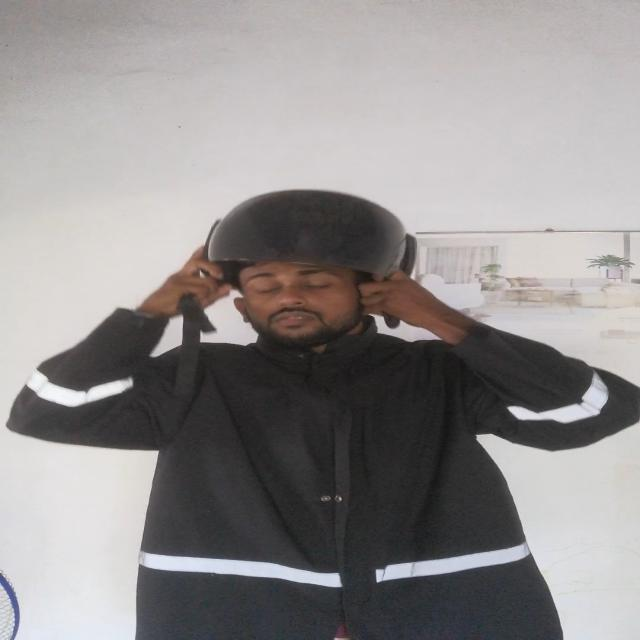Helmet_Wearer: (186, 184, 444, 351)
Jacket_Wearer: (0, 298, 640, 640)
Person: (20, 194, 640, 640)
